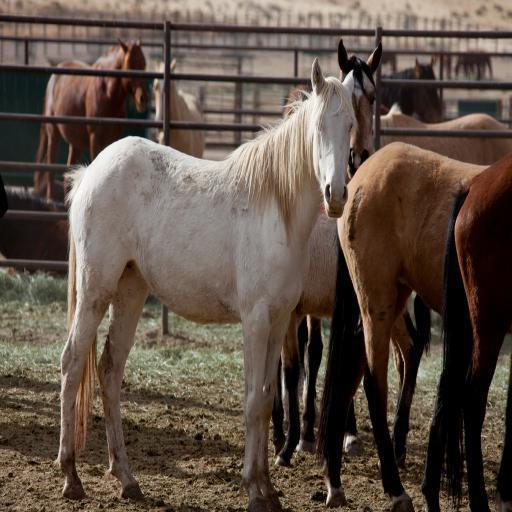horse: (58, 54, 360, 512), (312, 140, 488, 512), (274, 210, 434, 476), (418, 154, 512, 512), (35, 34, 148, 208), (282, 56, 446, 121), (376, 110, 512, 166), (336, 34, 384, 182), (150, 59, 205, 159), (453, 49, 494, 82)
